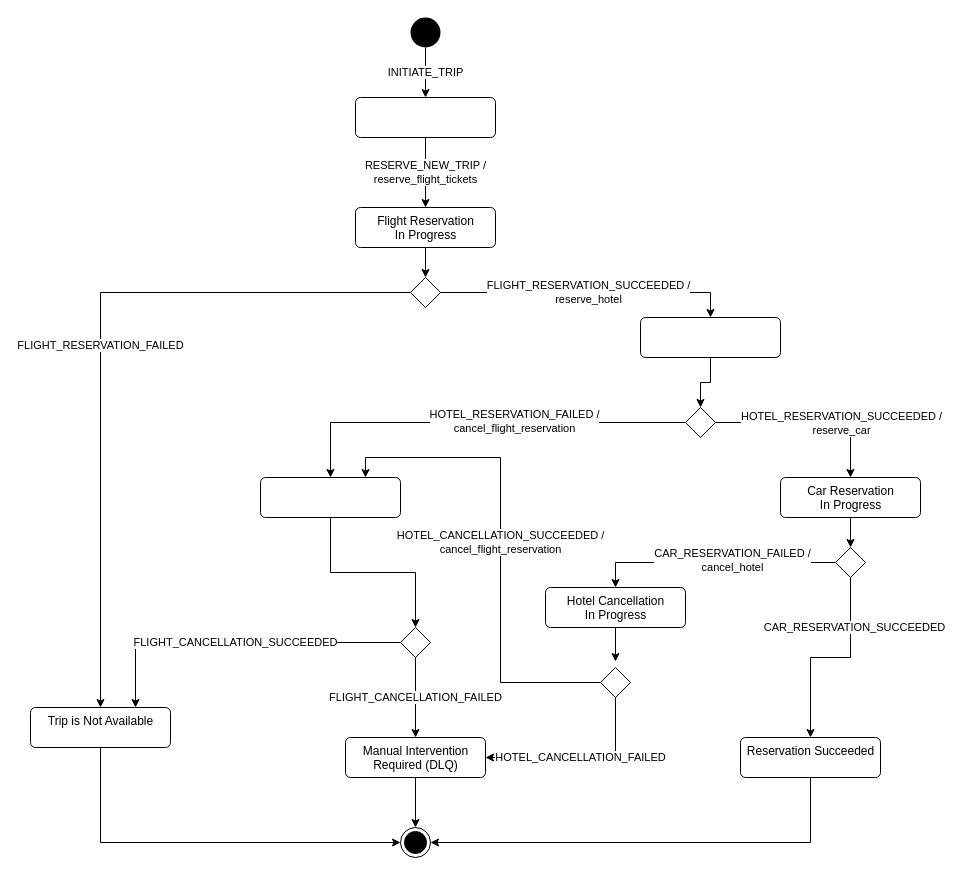
Some shapes in this 962 by 875 pixel diagram are drawn without their labels. The centre of each missing label's shape, as x and y in pixels:
"Flight Cancellation In Progress" belongs at pixel 330 497.
"Hotel Reservation In Progress" belongs at pixel 710 337.
"New" belongs at pixel 425 117.
